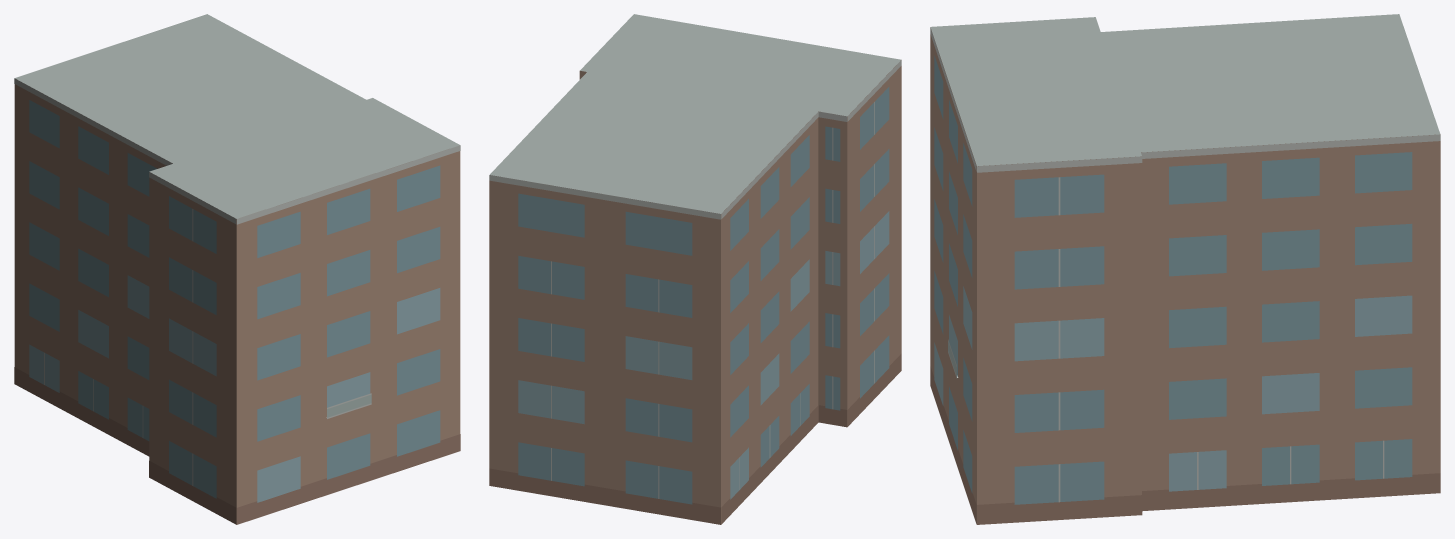
File: survey-upis-32970570.glb
3 renders of one model, left to right at view 1: azimuth 30°, elevation 25°; view 2: azimuth 150°, elevation 25°; view 3: azimuth 270°, elevation 25°, orthographic. The views are drawn at different scales.
Parts seen in each view (by area): view 1: survey-upis-32970570.tmp; view 2: survey-upis-32970570.tmp; view 3: survey-upis-32970570.tmp.
Boxes of the visible parts, left/top/right/bottom form: survey-upis-32970570.tmp: left=14, top=14, right=460, bottom=524; survey-upis-32970570.tmp: left=489, top=14, right=901, bottom=524; survey-upis-32970570.tmp: left=930, top=14, right=1440, bottom=524.
Bounding box in the file's own units: 12.02 × 13.2 × 17.02.
